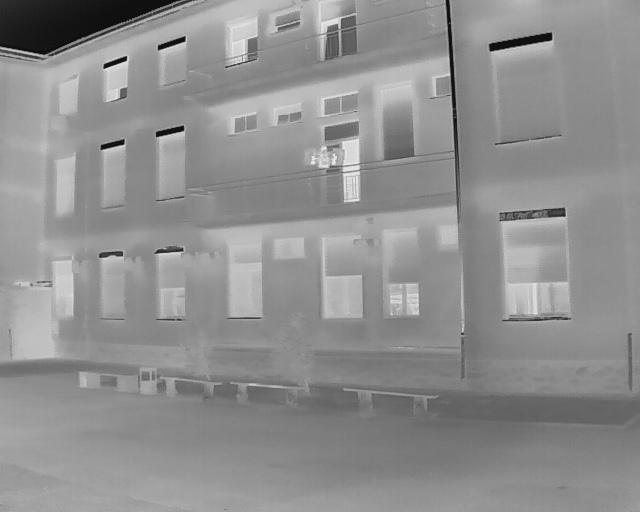drone: (294, 139, 359, 179)
